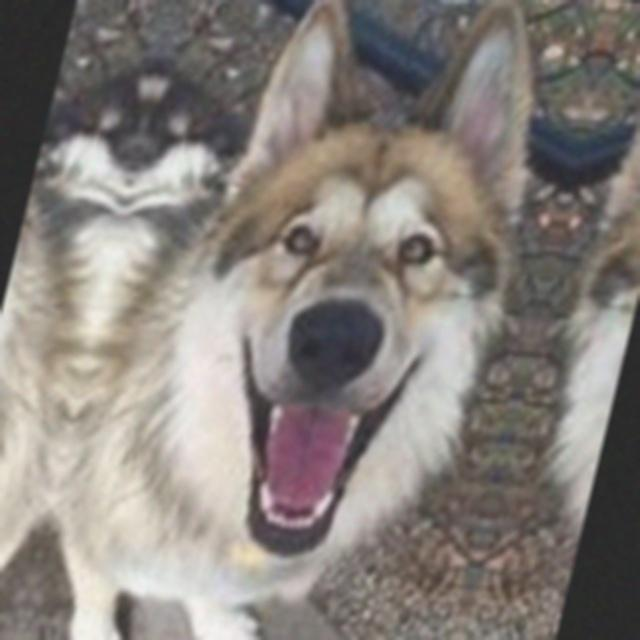dog: (22, 0, 580, 640), (0, 0, 169, 640), (475, 19, 640, 640)
